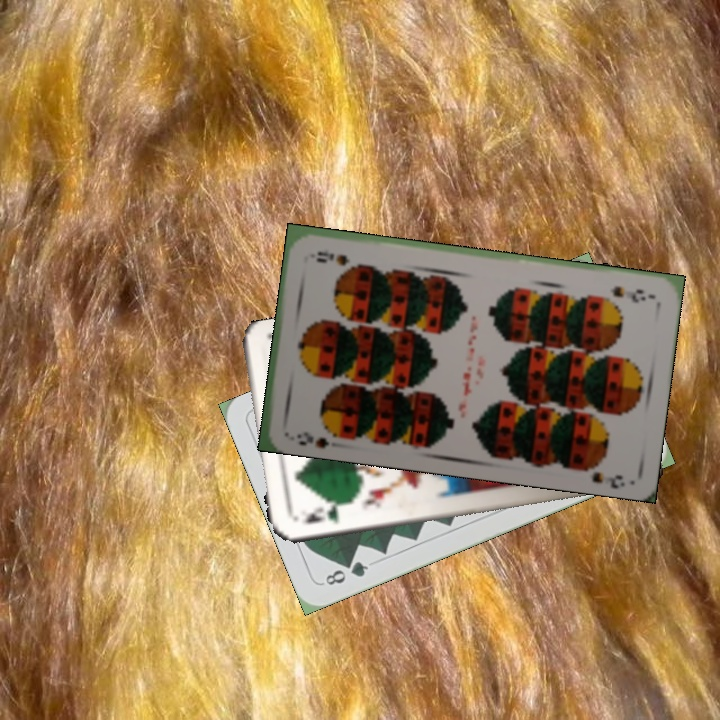G8: (318, 557, 371, 588)
GK: (298, 503, 342, 527)
S9: (293, 423, 344, 448), (606, 282, 656, 304)
